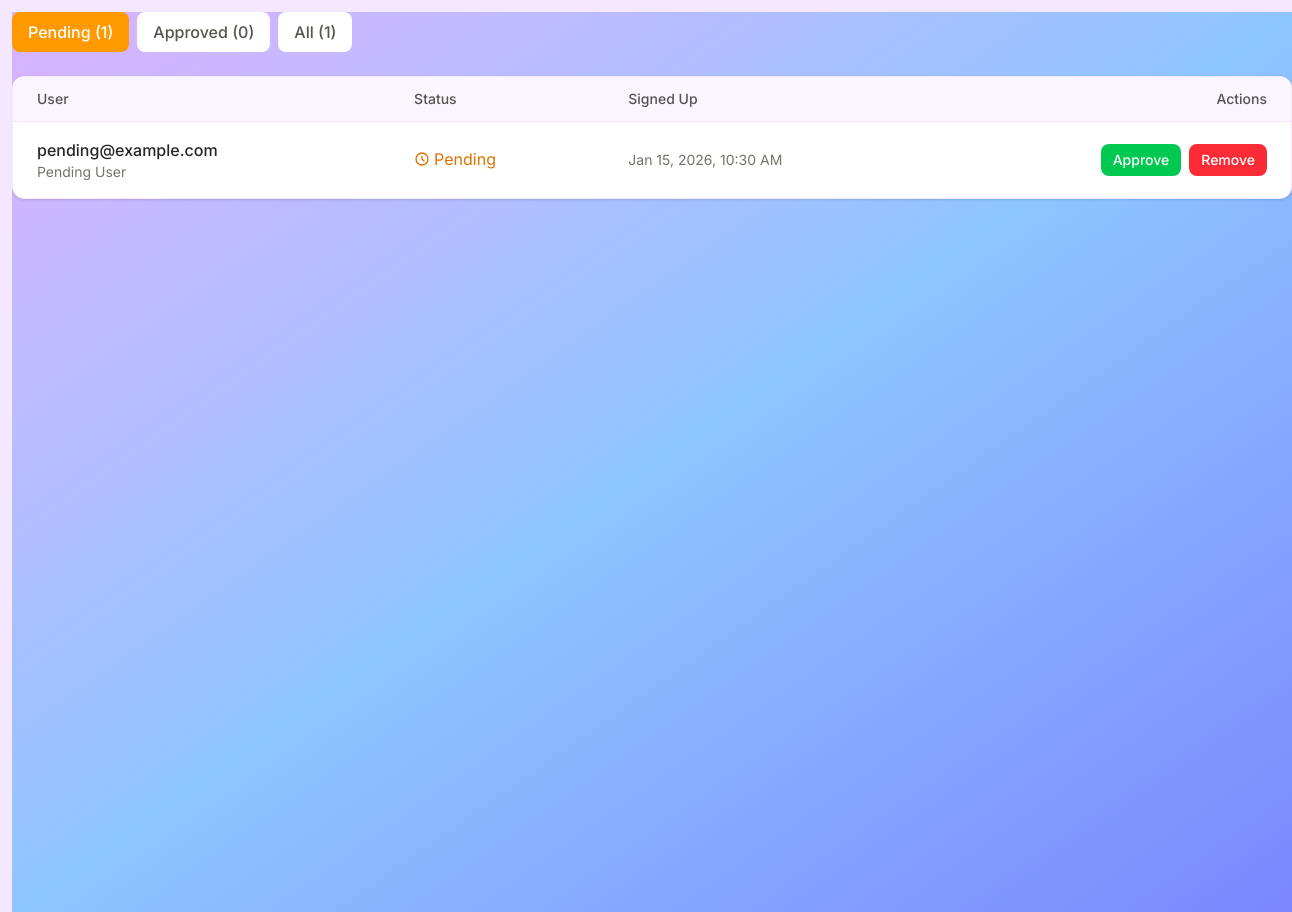
it: AdminUserList › tab filtering › shows correct empty state for approved tab
Click the button "Approved (0)" at (204, 32), box x1=137 y1=12 x2=270 y2=52
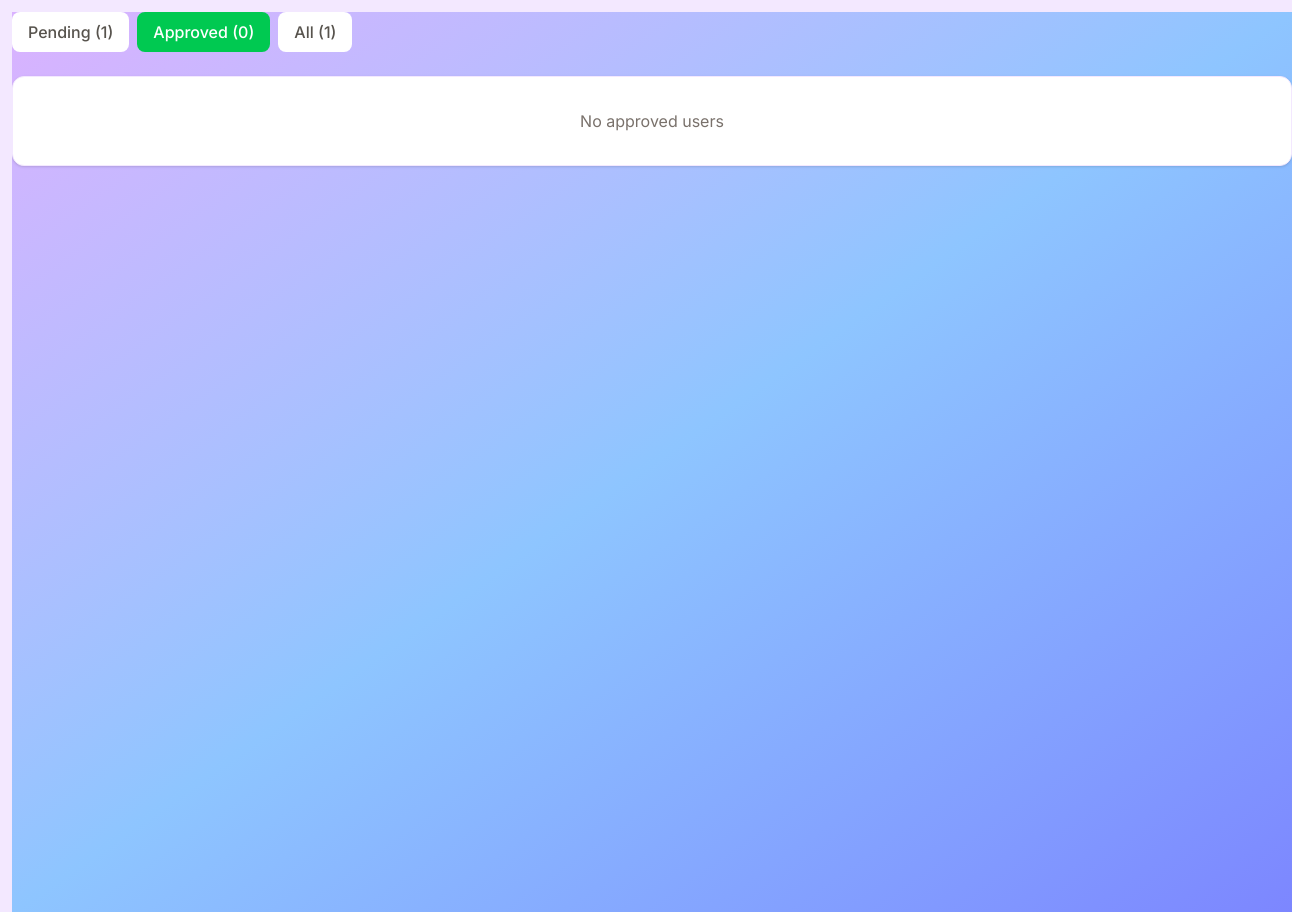
Check: the text "No approved users" is shown, box x1=580 y1=111 x2=724 y2=131
